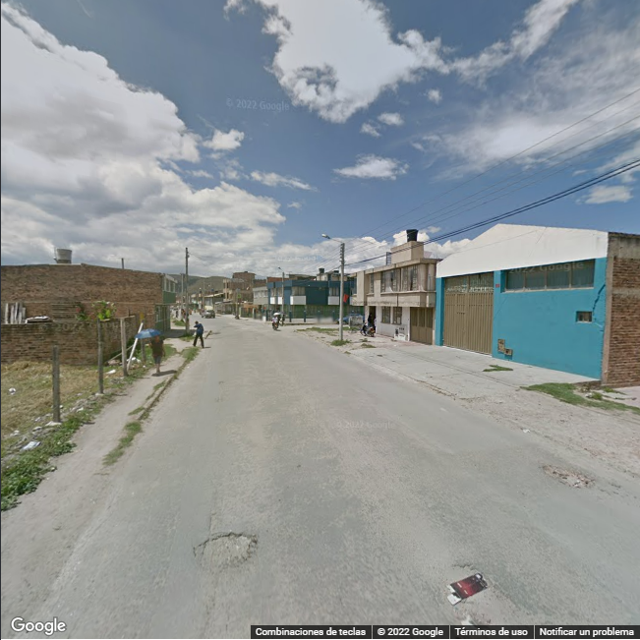D00: (82, 502, 114, 547), (200, 576, 215, 635)
D40: (190, 525, 255, 574), (536, 457, 600, 493)
